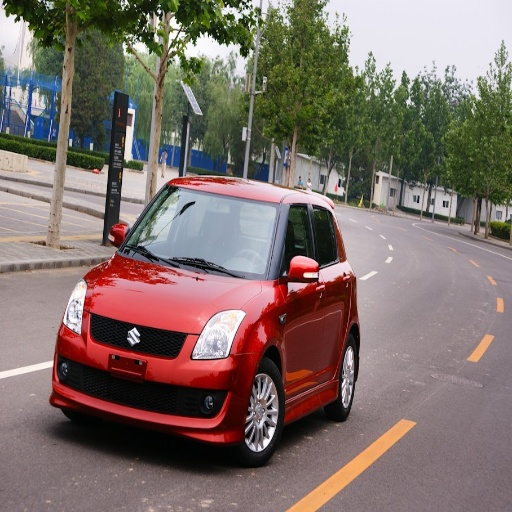front_bumper: (84, 314, 253, 443)
front_glass: (120, 186, 280, 279)
front_left_door: (281, 201, 320, 399)
